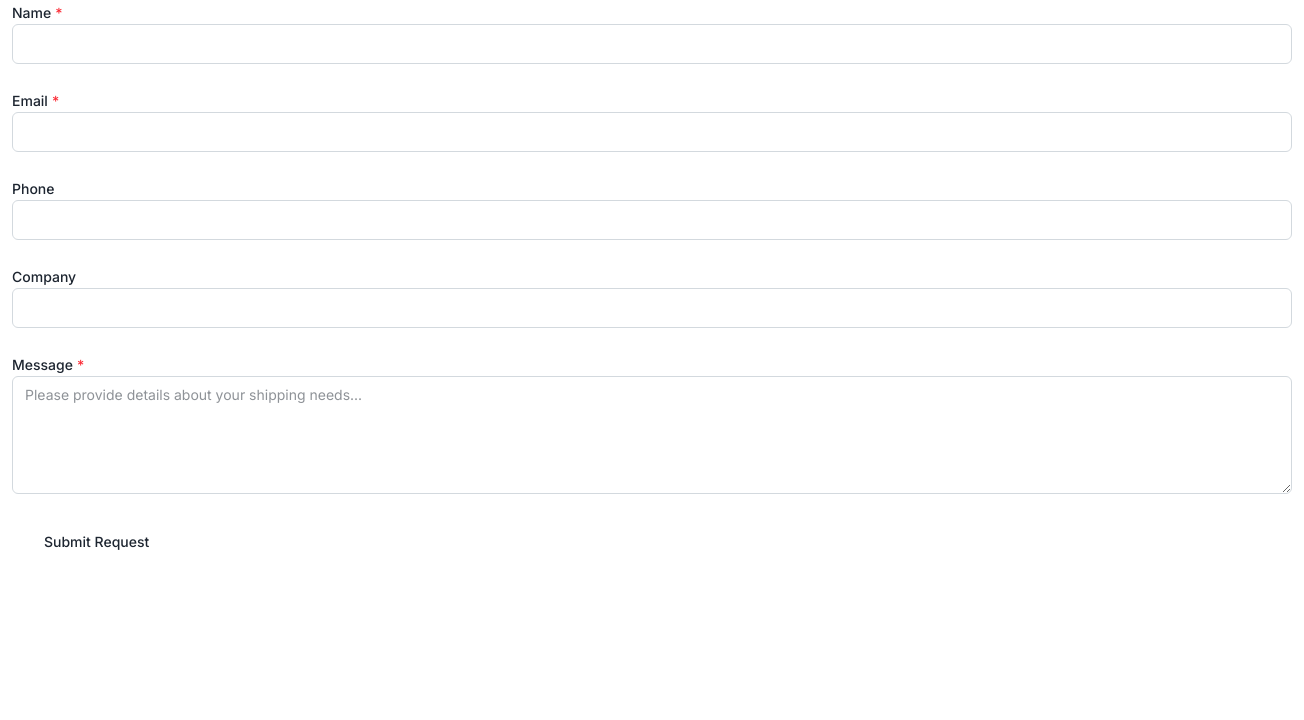
Test case: RateRequestForm › Validation › shows validation error for empty required fields on submit
The width and height of the screenshot is (1304, 720).
Click the button "Submit Request". click: (97, 542)
box: [12, 518, 181, 566]
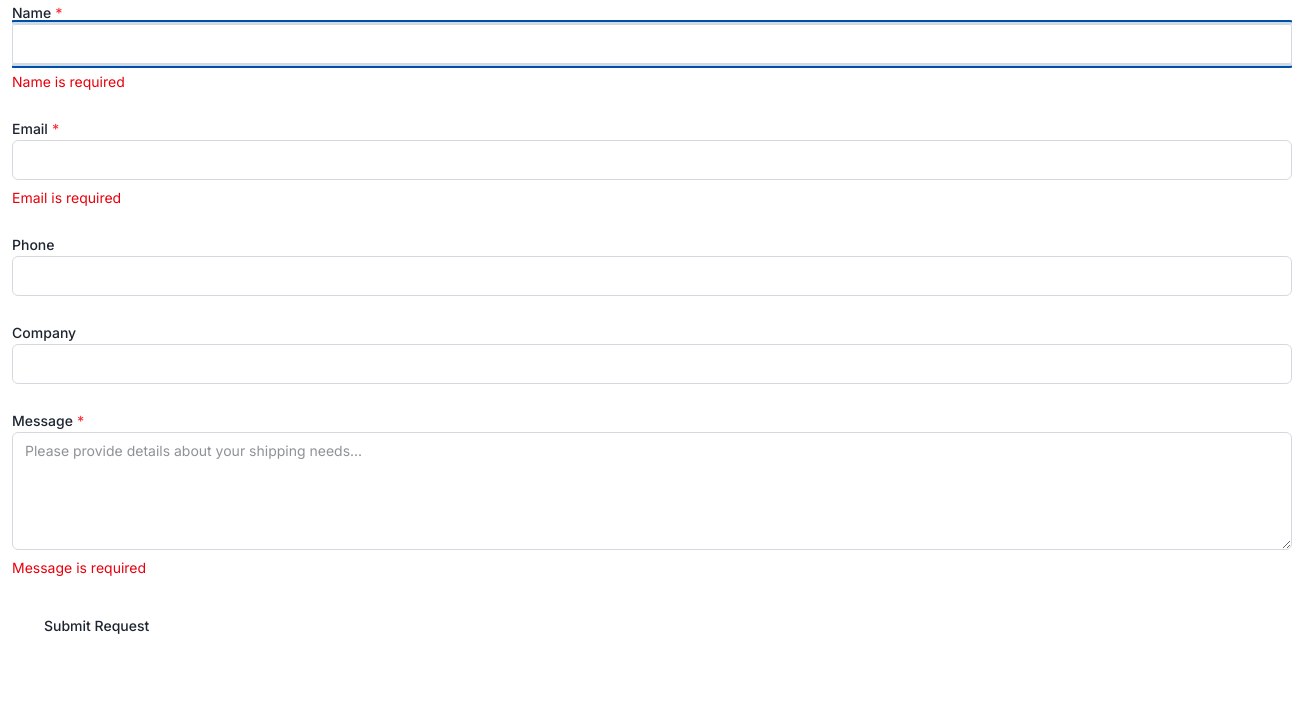
Now the text "Name is required" is shown, box [12, 73, 125, 90]
Now the text "Email is required" is shown, box [12, 189, 121, 206]
Now the text "Message is required" is shown, box [12, 559, 146, 576]
